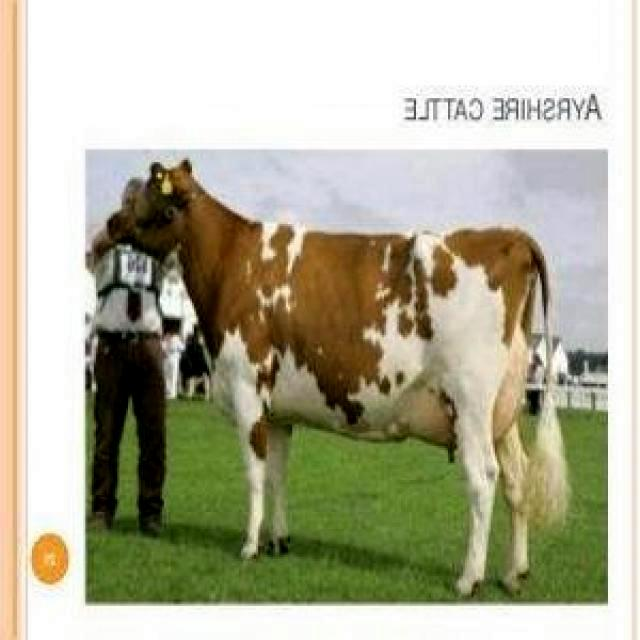COW: (108, 161, 566, 595)
